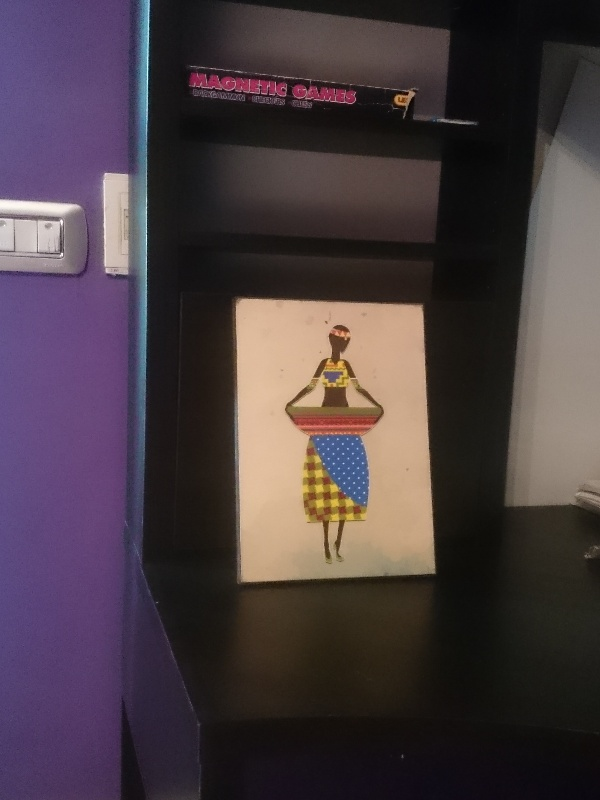my image: (241, 304, 433, 581)
